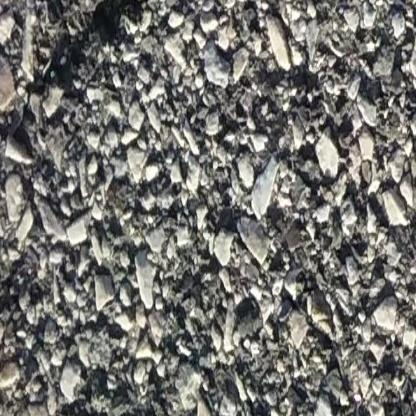Cracks: (25, 0, 182, 104)
